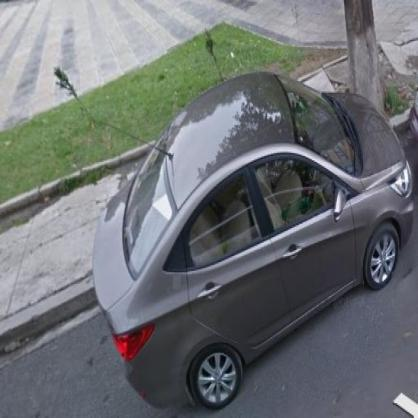car: (88, 76, 416, 415)
